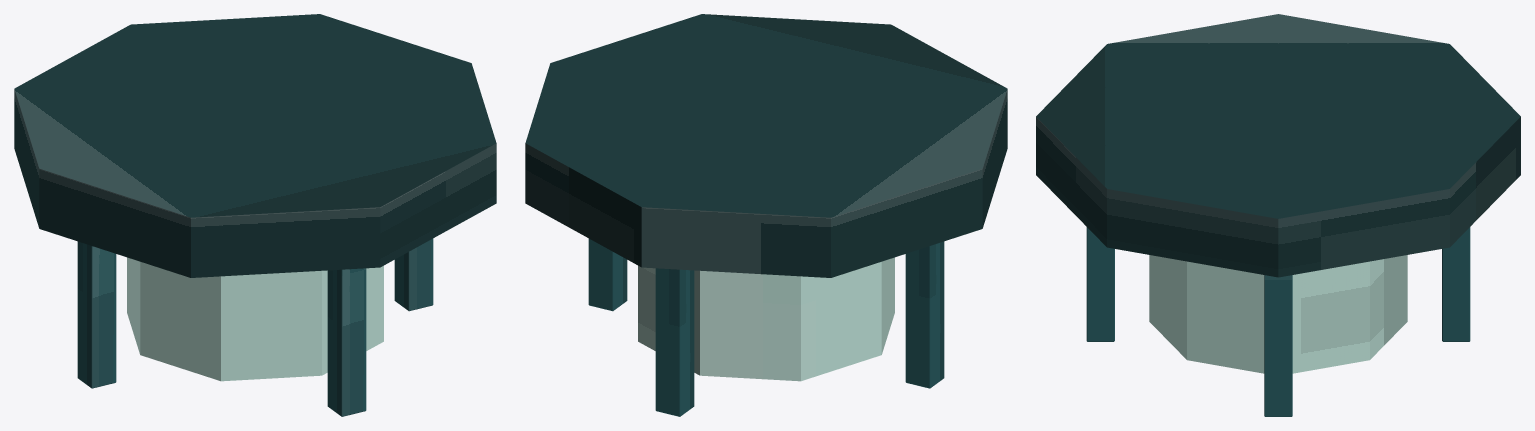
The model's file is ceiling_light_teal.glb.
3 renders of one model, left to right at view 1: azimuth 30°, elevation 25°; view 2: azimuth 150°, elevation 25°; view 3: azimuth 270°, elevation 25°, orthographic. The views are drawn at different scales.
Visible parts, largest first — view 1: CeilingPlate, LightCore, Cage_2, Cage_0, Cage_1; view 2: CeilingPlate, LightCore, Cage_3, Cage_0, Cage_1; view 3: CeilingPlate, LightCore, Cage_1, Cage_2, Cage_3.
Part boxes in pixels (box(x1,y1,x2,y2)): CeilingPlate: box(14, 14, 496, 277); LightCore: box(127, 257, 383, 381); Cage_2: box(327, 268, 366, 416); Cage_0: box(77, 241, 116, 388); Cage_1: box(394, 238, 433, 311); CeilingPlate: box(525, 14, 1007, 277); LightCore: box(638, 257, 894, 381); Cage_3: box(655, 268, 694, 416); Cage_0: box(905, 241, 944, 388); Cage_1: box(588, 238, 627, 311); CeilingPlate: box(1036, 14, 1520, 277); LightCore: box(1149, 255, 1407, 373); Cage_1: box(1264, 275, 1292, 416); Cage_2: box(1086, 227, 1114, 341); Cage_3: box(1442, 227, 1470, 341).
Size of the model in its own units: 0.6 by 0.3 by 0.6.
1 material, 1 textured.
